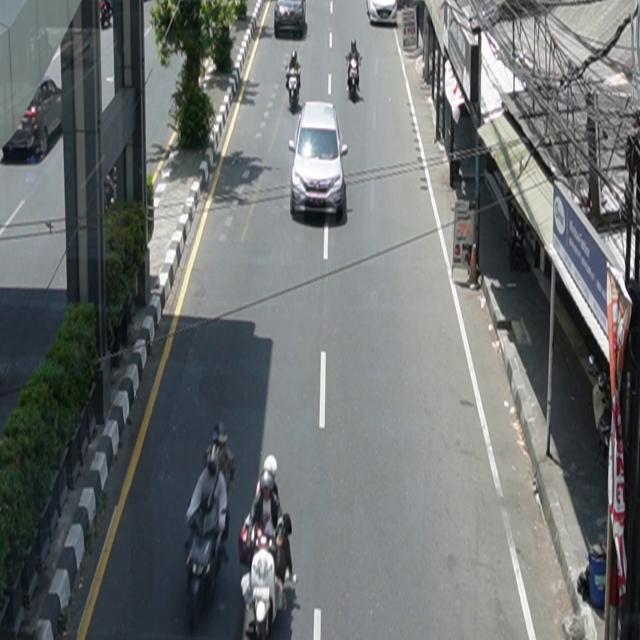car: (289, 101, 349, 217), (275, 1, 307, 39), (366, 1, 398, 26)
